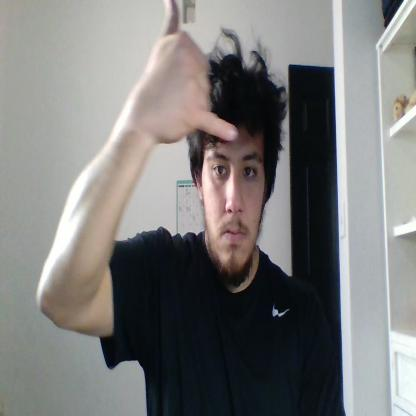Y: (144, 0, 238, 145)
